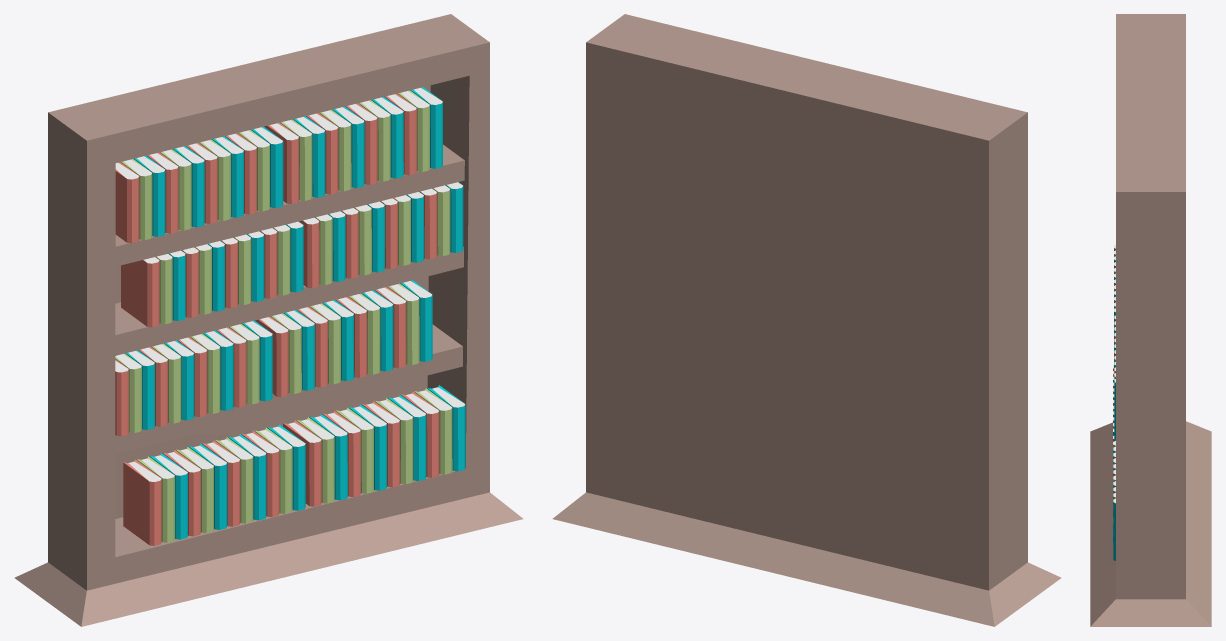
Rendered from bookshelf-colored.fbx.
3 renders of one model, left to right at view 1: azimuth 30°, elevation 25°; view 2: azimuth 150°, elevation 25°; view 3: azimuth 270°, elevation 25°, orthographic. The views are drawn at different scales.
Visible parts, largest first — view 1: bookshelf; view 2: bookshelf; view 3: bookshelf.
Boxes of the visible parts, x1,y1,x2,y2 form: bookshelf: (14, 14, 523, 626); bookshelf: (552, 14, 1061, 626); bookshelf: (1090, 14, 1211, 626).
Bounding box in the file's own units: 169 × 172 × 44.44.
